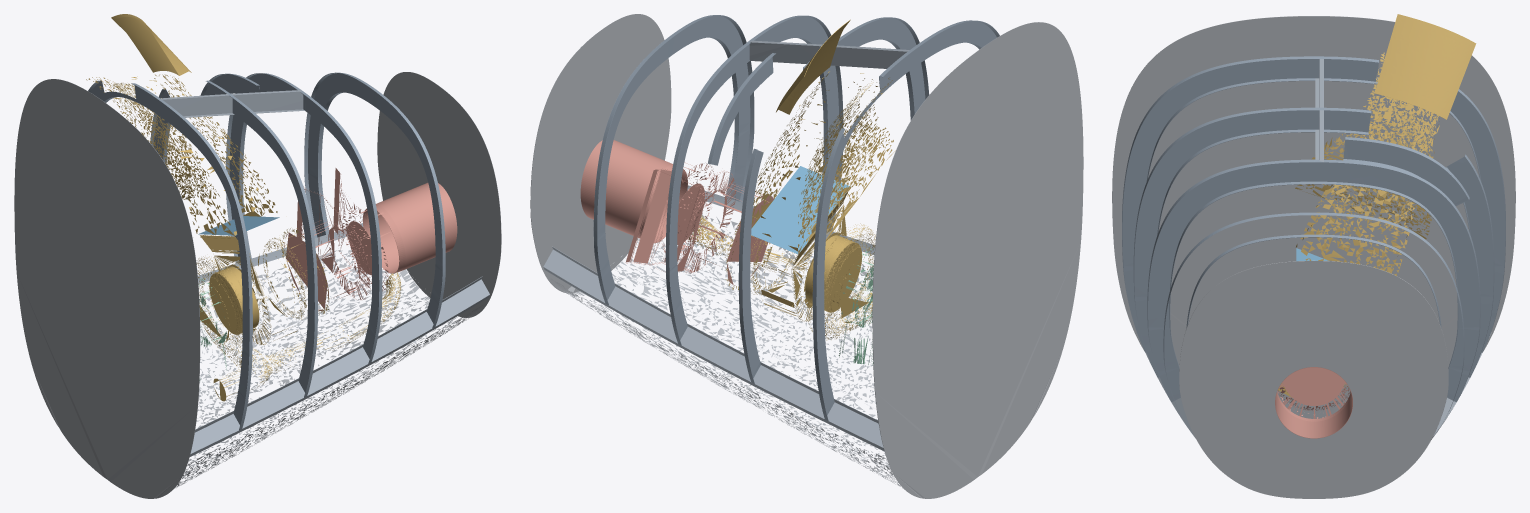
The model's file is apu-cad-assembly.glb.
3 renders of one model, left to right at view 1: azimuth 30°, elevation 25°; view 2: azimuth 150°, elevation 25°; view 3: azimuth 270°, elevation 25°, orthographic. The views are drawn at different scales.
Parts seen in each view (by area): view 1: firewall_behind, firewall_front, APU_door, beam_1, Frame_5, Frame_4, body_0, body_2, Frame_1, Frame_2, beam_3, body_6 (+12 smaller); view 2: firewall_behind, firewall_front, APU_door, beam_2, Frame_5, Frame_4, Frame_1, body_2, body_0, body_6, apu_intake, Frame_3 (+13 smaller); view 3: firewall_behind, firewall_front, Frame_4, Frame_1, Frame_2, body_2, body_1, Frame_3, Frame_6, Frame_5, combustor_outlet, body_0 (+1 smaller).
Boxes of the visible parts, left/top/right/bottom form: firewall_behind: left=14, top=79, right=200, bottom=498; firewall_front: left=377, top=72, right=501, bottom=317; APU_door: left=174, top=250, right=482, bottom=488; beam_1: left=190, top=276, right=489, bottom=456; Frame_5: left=304, top=72, right=445, bottom=328; Frame_4: left=226, top=73, right=382, bottom=363; body_0: left=362, top=182, right=457, bottom=273; body_2: left=86, top=74, right=277, bottom=235; Frame_1: left=88, top=80, right=252, bottom=430; Frame_2: left=206, top=80, right=317, bottom=397; beam_3: left=160, top=90, right=304, bottom=117; body_6: left=296, top=168, right=390, bottom=299; firewall_behind: left=872, top=22, right=1083, bottom=498; firewall_front: left=530, top=14, right=671, bottom=293; APU_door: left=551, top=213, right=902, bottom=488; beam_2: left=543, top=246, right=884, bottom=451; Frame_5: left=593, top=15, right=754, bottom=304; Frame_4: left=665, top=15, right=843, bottom=345; Frame_1: left=812, top=20, right=999, bottom=420; body_2: left=751, top=71, right=895, bottom=254; body_0: left=580, top=140, right=687, bottom=243; body_6: left=625, top=162, right=736, bottom=273; apu_intake: left=751, top=166, right=850, bottom=254; Frame_3: left=738, top=148, right=763, bottom=383; firewall_behind: left=1112, top=16, right=1515, bottom=418; firewall_front: left=1179, top=260, right=1448, bottom=498; Frame_4: left=1147, top=159, right=1480, bottom=402; Frame_1: left=1122, top=56, right=1505, bottom=352; Frame_2: left=1133, top=107, right=1371, bottom=377; body_2: left=1295, top=52, right=1439, bottom=275; body_1: left=1374, top=14, right=1476, bottom=119; Frame_3: left=1446, top=154, right=1494, bottom=377; Frame_6: left=1343, top=137, right=1469, bottom=205; Frame_5: left=1163, top=212, right=1464, bottom=423; combustor_outlet: left=1283, top=367, right=1344, bottom=405; body_0: left=1275, top=367, right=1352, bottom=438.
Bounding box in the file's own units: 2.36 × 2.81 × 2.28.
